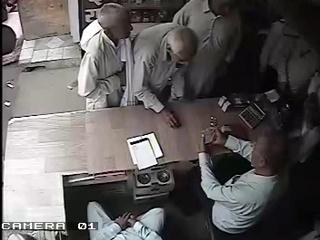Normal: (198, 122, 288, 240), (128, 22, 198, 128), (178, 0, 244, 101), (258, 0, 320, 98), (86, 200, 166, 240)
shoplifting: (77, 2, 134, 111)
